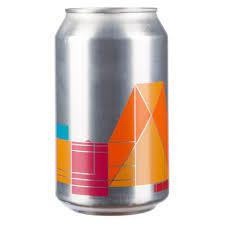beer: (52, 4, 173, 216)
